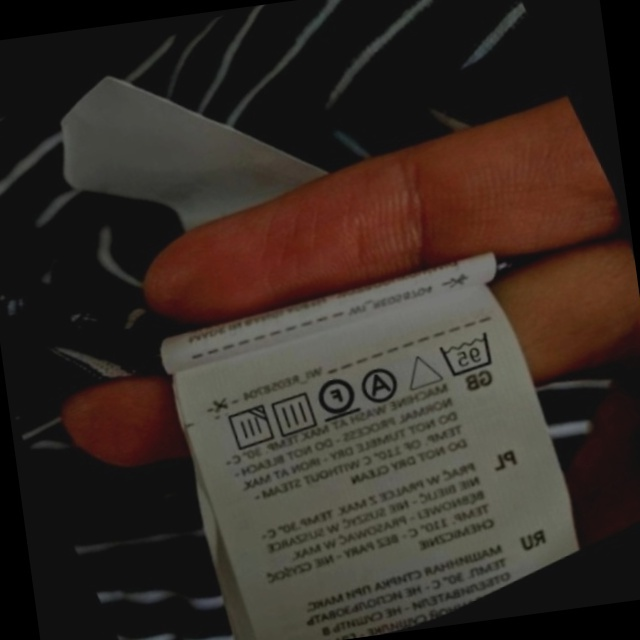95C: (424, 315, 510, 393)
bleach: (390, 336, 454, 403)
drip_dry: (257, 377, 331, 450)
drip_dry_in_shade: (210, 391, 287, 467)
dry_clean: (348, 353, 413, 417)
dry_clean_petrol_only: (301, 360, 372, 434)
